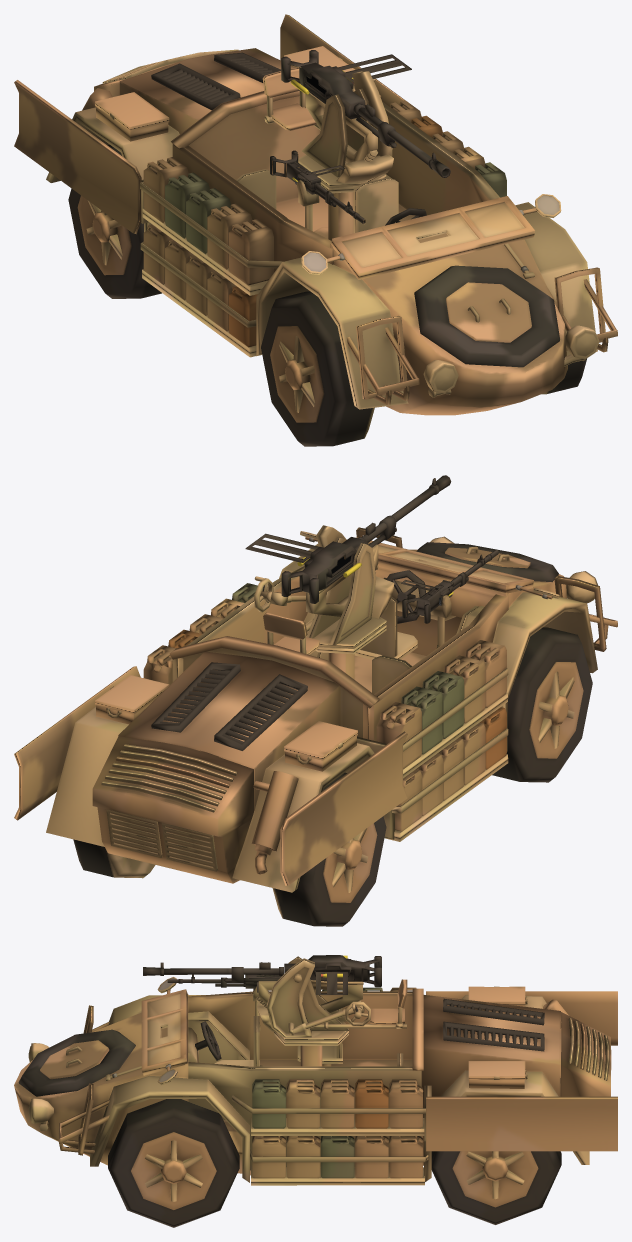
The model's file is camionetta.glb.
3 renders of one model, top to bottom at view 1: azimuth 30°, elevation 25°; view 2: azimuth 150°, elevation 25°; view 3: azimuth 270°, elevation 25°, orthographic. The views are drawn at different scales.
Parts seen in each view (by area): view 1: hull, wheel_FR, windscreen, breda_20mm_seat, wheel_RR, breda_20mm_gun, breda_HMG, breda_20mm_barrel, mg_seat, 20mm_ammo_strip; view 2: hull, wheel_FR, breda_20mm_seat, wheel_RR, breda_20mm_gun, windscreen, wheel_RL, breda_HMG, 20mm_ammo_strip, breda_20mm_barrel, mg_seat, steering; view 3: hull, wheel_FL, wheel_RL, breda_20mm_seat, windscreen, breda_20mm_gun, breda_20mm_barrel, 20mm_ammo_strip, breda_HMG, mg_seat, steering, breda_20mm_crank.
Part boxes in pixels (x1,y1,x2,y2): hull: (14, 14, 617, 415); wheel_FR: (261, 291, 374, 446); windscreen: (301, 194, 561, 279); breda_20mm_seat: (262, 67, 393, 240); wheel_RR: (68, 145, 161, 298); breda_20mm_gun: (281, 50, 396, 162); breda_HMG: (270, 150, 365, 224); breda_20mm_barrel: (358, 104, 450, 177); mg_seat: (236, 169, 276, 209); 20mm_ammo_strip: (338, 54, 411, 82); hull: (14, 527, 617, 892); wheel_FR: (492, 627, 592, 782); breda_20mm_seat: (263, 525, 394, 679); wheel_RR: (272, 772, 386, 926); breda_20mm_gun: (281, 515, 396, 616); windscreen: (300, 531, 559, 599); wheel_RL: (73, 839, 155, 878); breda_HMG: (402, 550, 498, 623); 20mm_ammo_strip: (245, 533, 319, 562); breda_20mm_barrel: (362, 475, 451, 542); mg_seat: (372, 655, 411, 694); steering: (386, 570, 425, 623); hull: (14, 986, 617, 1185); wheel_FL: (108, 1099, 239, 1227); wheel_RL: (431, 1151, 561, 1224); breda_20mm_seat: (256, 956, 407, 1066); windscreen: (141, 977, 187, 1084); breda_20mm_gun: (223, 955, 381, 1012); breda_20mm_barrel: (143, 962, 278, 975); 20mm_ammo_strip: (316, 971, 347, 994); breda_HMG: (167, 974, 281, 988); mg_seat: (297, 1008, 342, 1066); steering: (195, 1021, 221, 1060); breda_20mm_crank: (345, 1001, 370, 1026).
Bounding box in the file's own units: 2.38 × 2.33 × 5.62.
5 materials, 1 textured.
